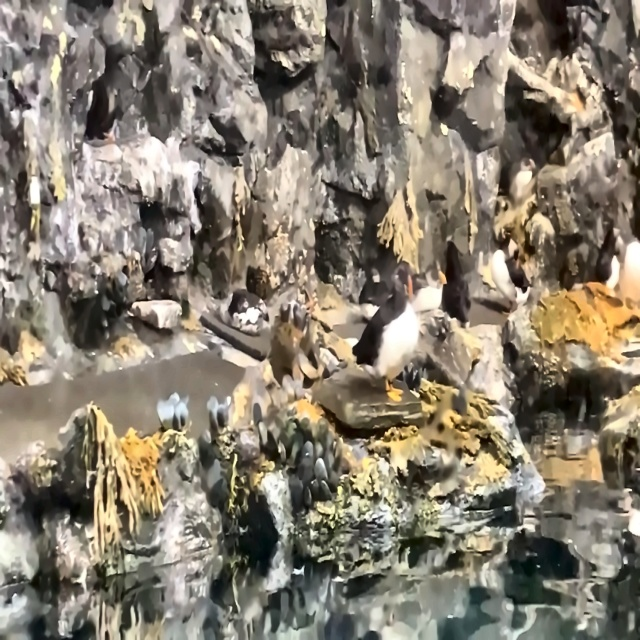puffin: (350, 261, 420, 404), (490, 237, 529, 309), (442, 241, 472, 323), (87, 76, 123, 143), (410, 262, 447, 313), (359, 268, 385, 319)
